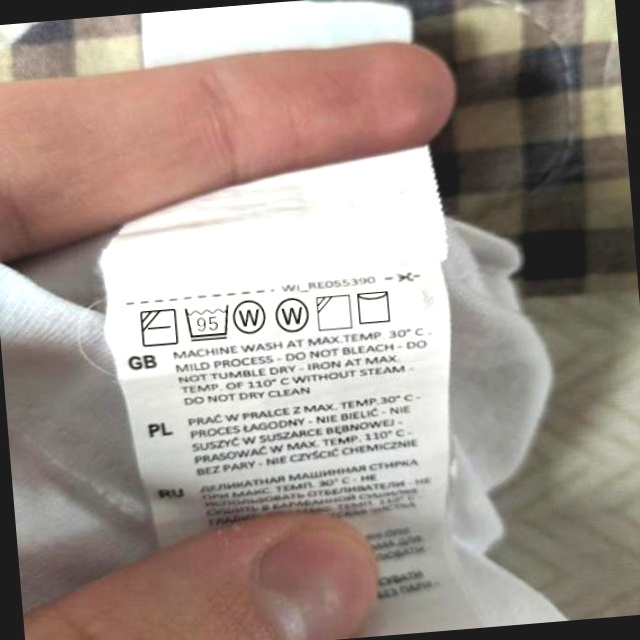95C: (182, 301, 233, 343)
dry_flat_in_shade: (137, 305, 180, 350)
line_dry: (354, 286, 396, 327)
shade_dry: (314, 291, 355, 333)
wet_clean: (273, 295, 312, 337), (232, 294, 270, 337)
